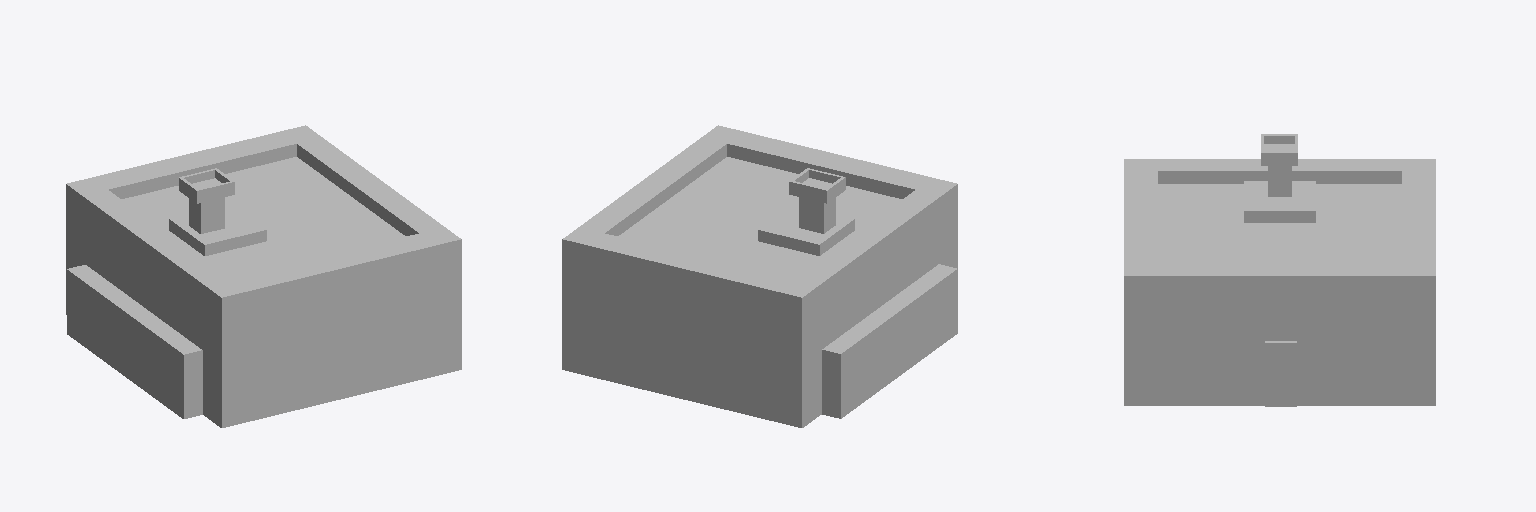
The model's file is House4.obj.
The picture shows the model from 3 angles: view 1: azimuth 30°, elevation 25°; view 2: azimuth 150°, elevation 25°; view 3: azimuth 270°, elevation 25°; orthographic projection.
Visible parts, largest first — view 1: Cube_014; view 2: Cube_014; view 3: Cube_014.
Part boxes in pixels (x1,y1,x2,y2): Cube_014: (66,125,461,427); Cube_014: (562,125,957,427); Cube_014: (1124,134,1435,406).
Bounding box in the file's own units: 116 × 74.91 × 119.